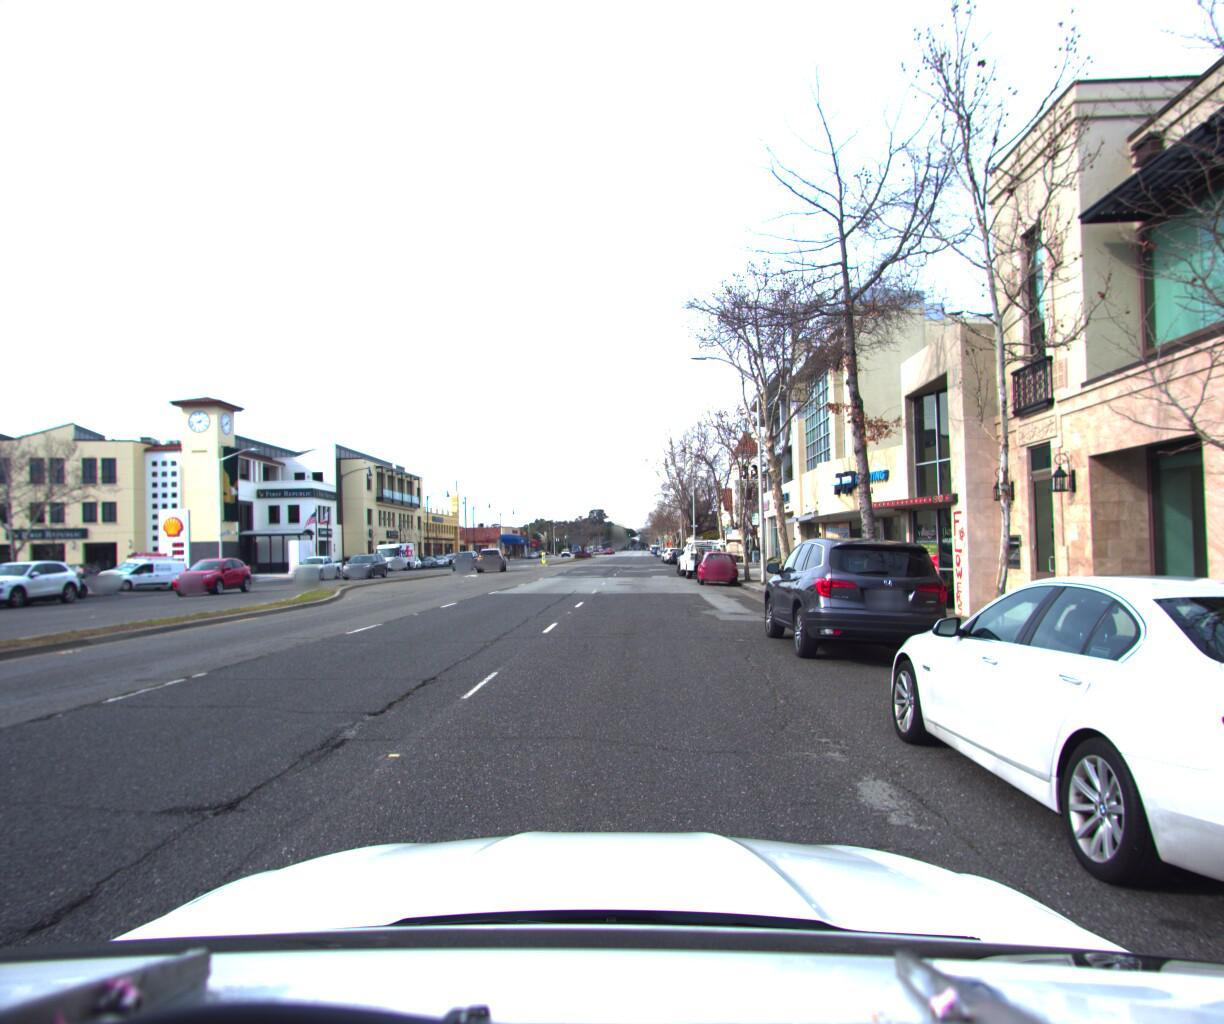car: (856, 552, 1224, 1017), (747, 530, 976, 672), (0, 556, 86, 609), (91, 546, 191, 588), (168, 552, 255, 594), (677, 529, 733, 577), (693, 544, 743, 583), (0, 558, 23, 616), (293, 548, 343, 574), (341, 550, 389, 576), (54, 561, 110, 581), (477, 545, 502, 571), (448, 545, 477, 565)
truck: (370, 538, 416, 570)
